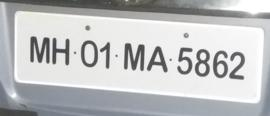0: (80, 38, 99, 67)
1: (99, 42, 114, 72)
2: (230, 50, 247, 83)
5: (177, 44, 194, 78)
6: (213, 49, 230, 78)
8: (194, 47, 212, 77)
A: (147, 45, 169, 77)
H: (52, 37, 70, 65)
M: (28, 33, 51, 68), (123, 41, 145, 75)
